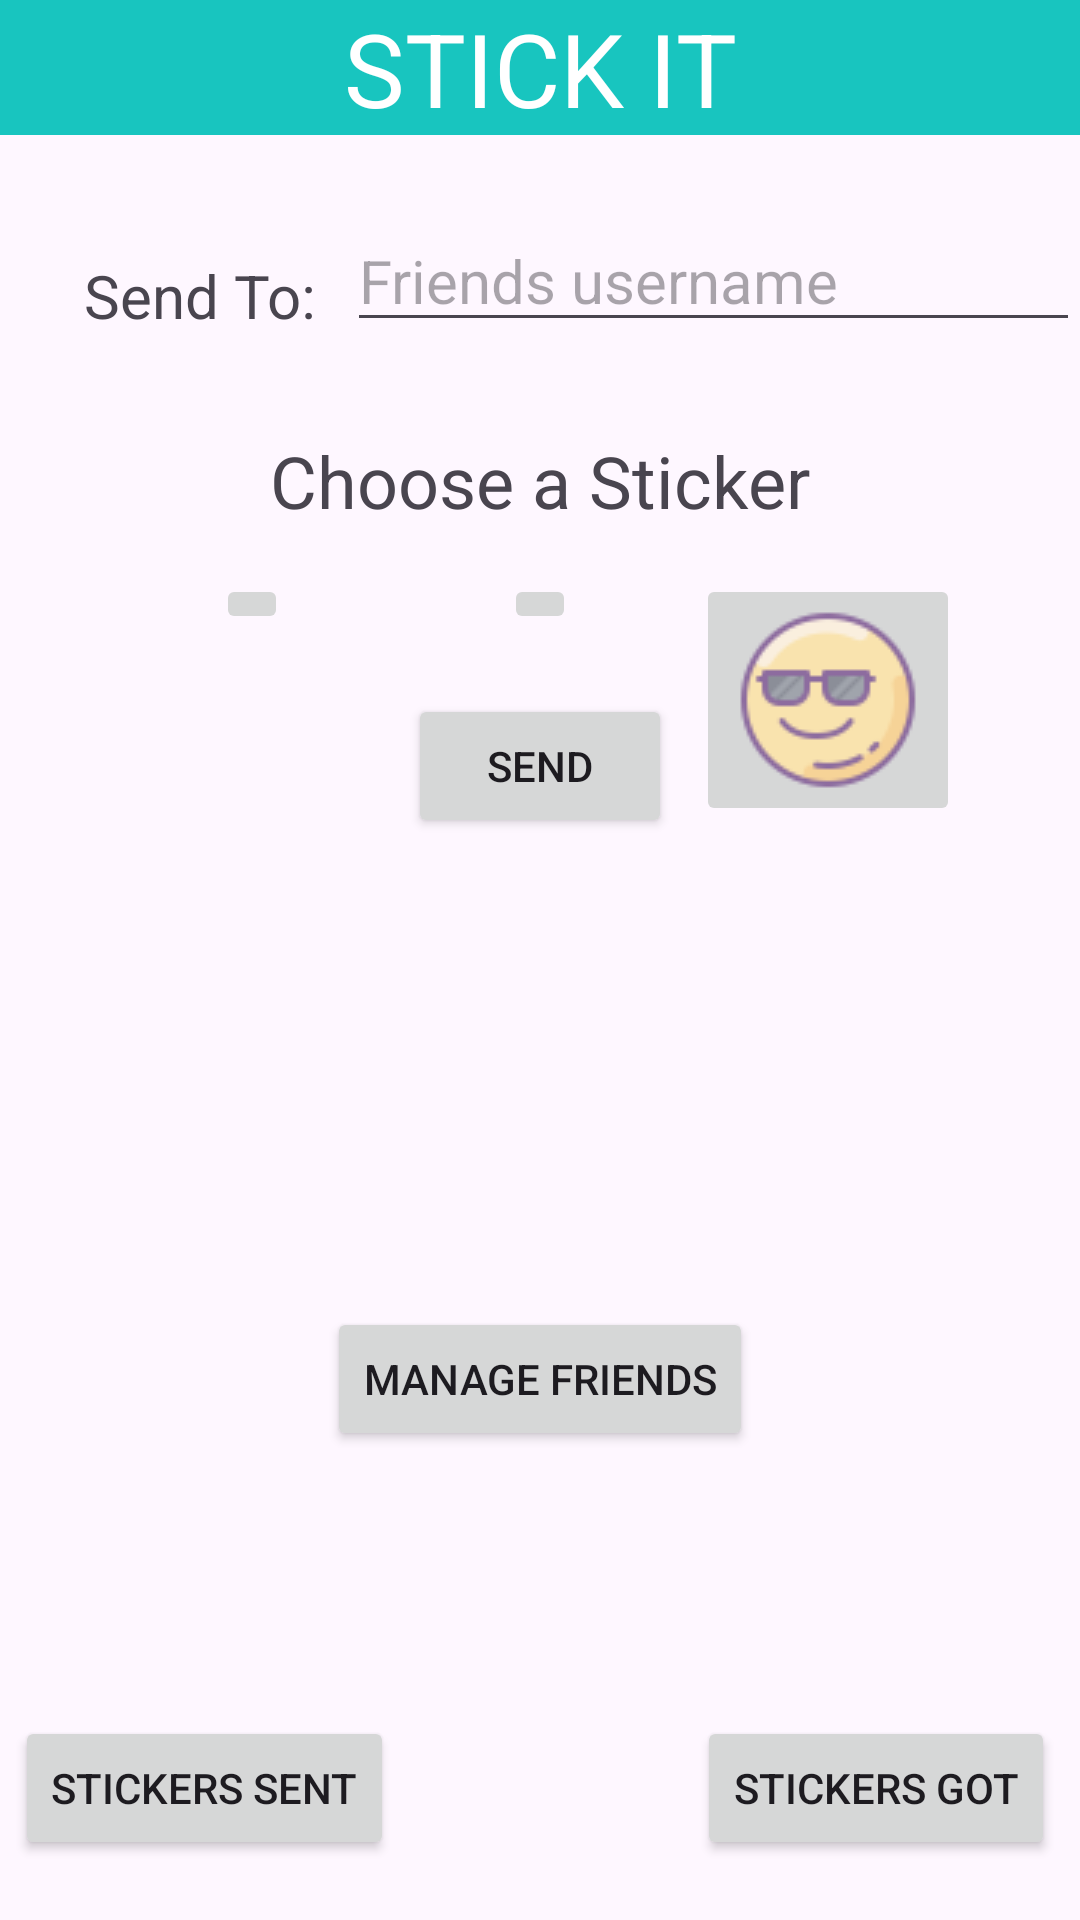

Where icons sit on this 1080w x 1920h app screen, as (x1, y1, x2, y2):
cool emoji: (708, 592, 948, 808)
